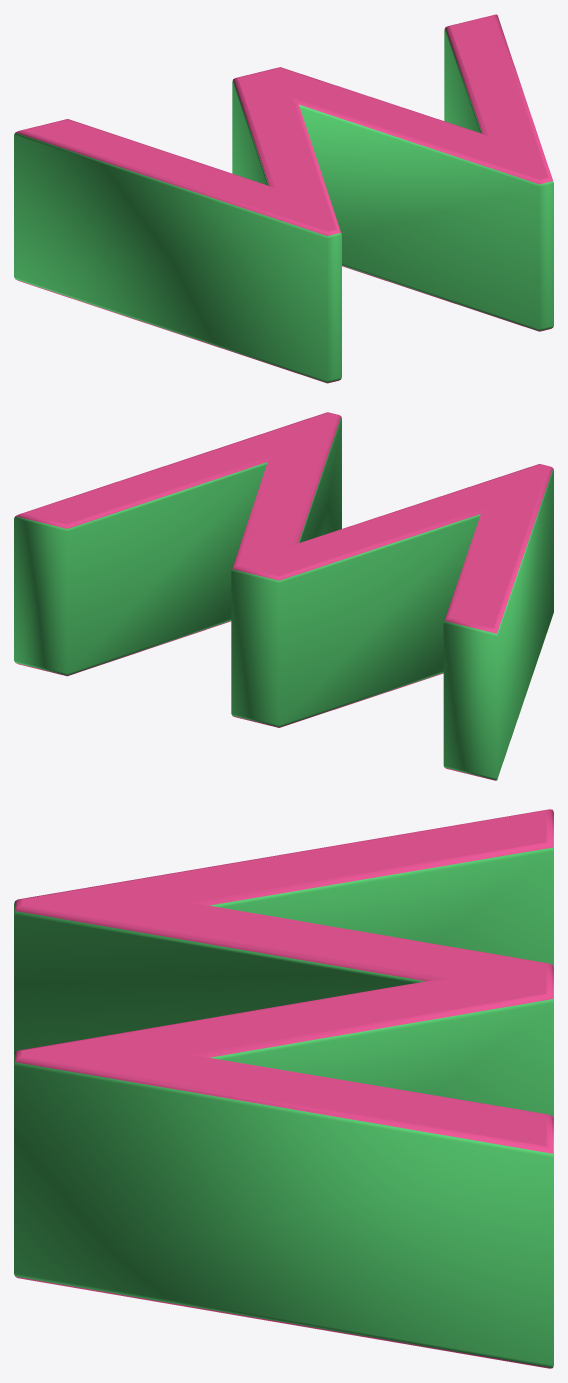
File: letter_W.fbx
3 renders of one model, top to bottom at view 1: azimuth 30°, elevation 25°; view 2: azimuth 150°, elevation 25°; view 3: azimuth 270°, elevation 25°, orthographic. The views are drawn at different scales.
Parts seen in each view (by area): view 1: Letter_W; view 2: Letter_W; view 3: Letter_W.
Boxes of the visible parts, left/top/right/bottom form: Letter_W: left=14, top=14, right=553, bottom=383; Letter_W: left=14, top=412, right=553, bottom=780; Letter_W: left=14, top=809, right=553, bottom=1368.
Size of the model in its own units: 107 by 32 by 70.8.
